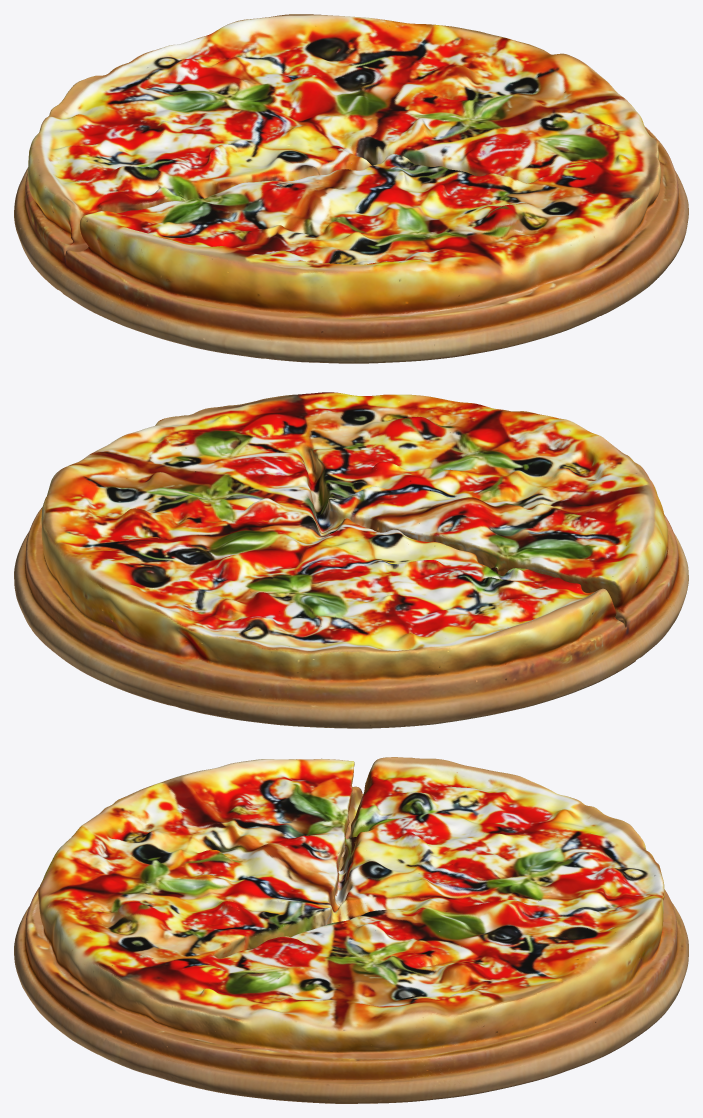
Rendered from dish.glb (2)_compressed.glb.
3 renders of one model, top to bottom at view 1: azimuth 30°, elevation 25°; view 2: azimuth 150°, elevation 25°; view 3: azimuth 270°, elevation 25°, orthographic.
Bounding box in the file's own units: 2 × 0.2731 × 2.
1 material, 1 textured.
